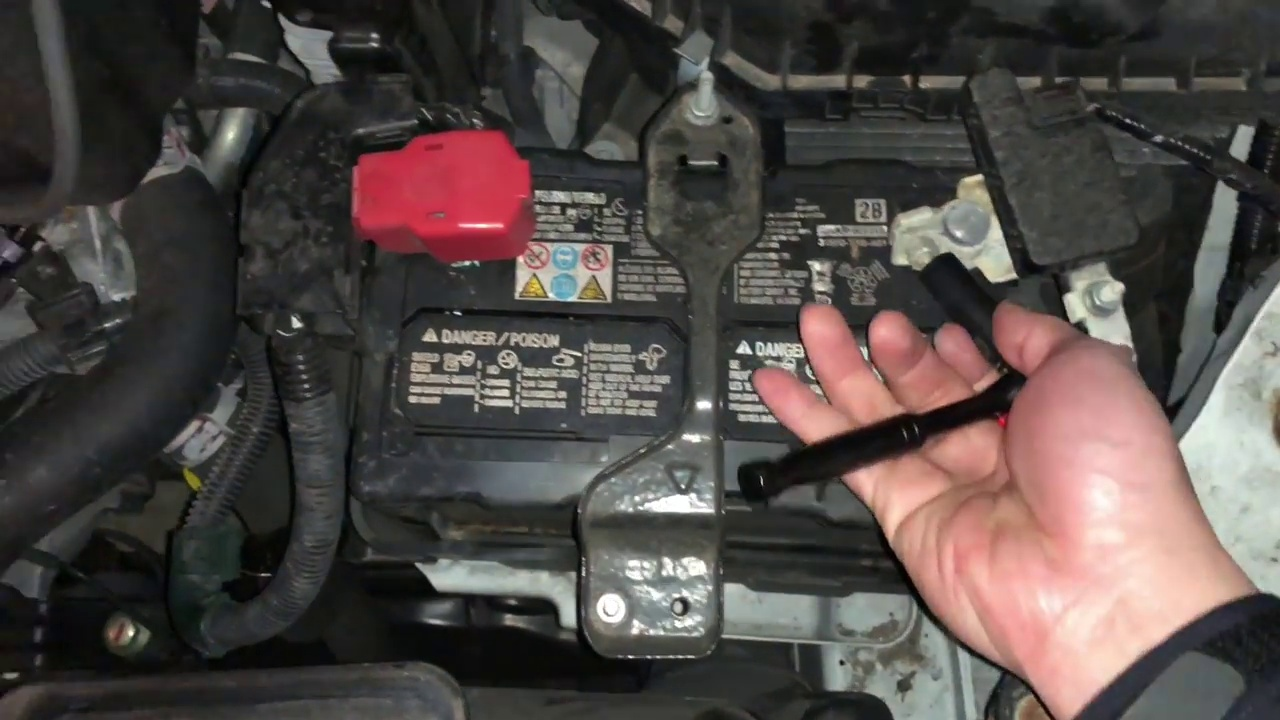battery: (345, 123, 1038, 547)
neg_connected: (862, 146, 1021, 274)
neg_touched: (886, 148, 1085, 469)
pos_connected: (326, 98, 549, 256)
